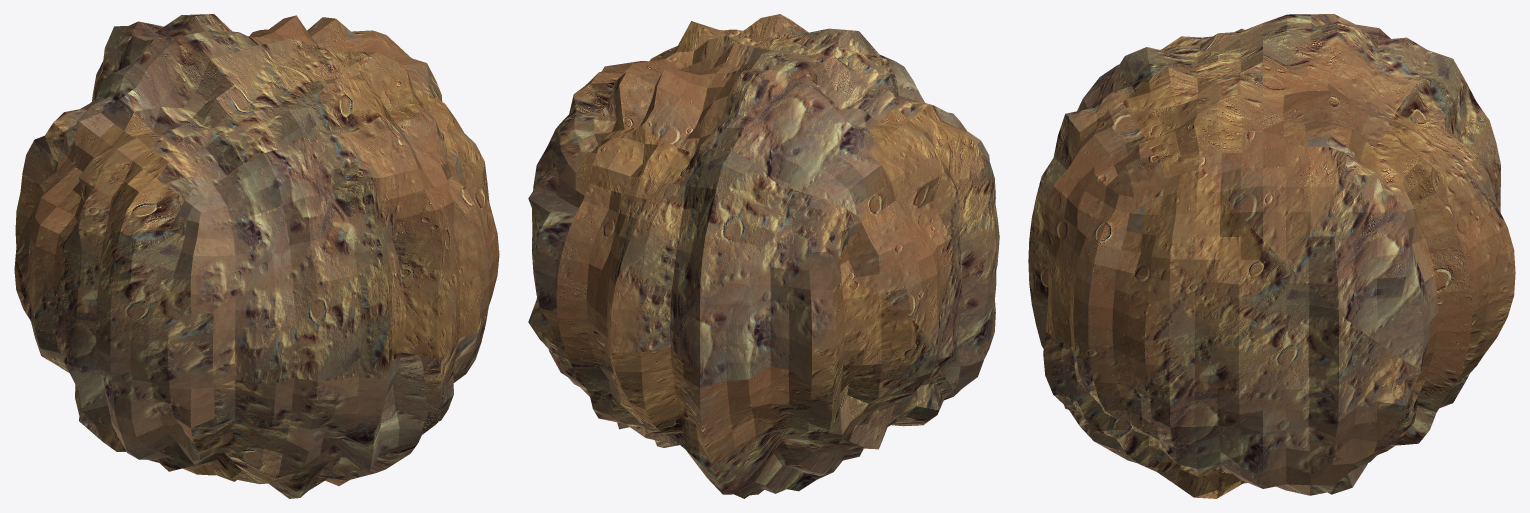
The model's file is asteroid10.obj.
The picture shows the model from 3 angles, left to right: view 1: azimuth 30°, elevation 25°; view 2: azimuth 150°, elevation 25°; view 3: azimuth 270°, elevation 25°; orthographic projection. The views are drawn at different scales.
Visible parts, largest first — view 1: Cube_Cube.002; view 2: Cube_Cube.002; view 3: Cube_Cube.002.
Part boxes in pixels (x1,y1,x2,y2): Cube_Cube.002: (14, 14, 499, 498); Cube_Cube.002: (528, 14, 999, 498); Cube_Cube.002: (1028, 14, 1515, 498).
Size of the model in its own units: 1.79 by 1.84 by 1.85.
